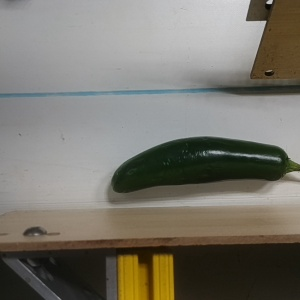Cut Point: (269, 143, 300, 187)
